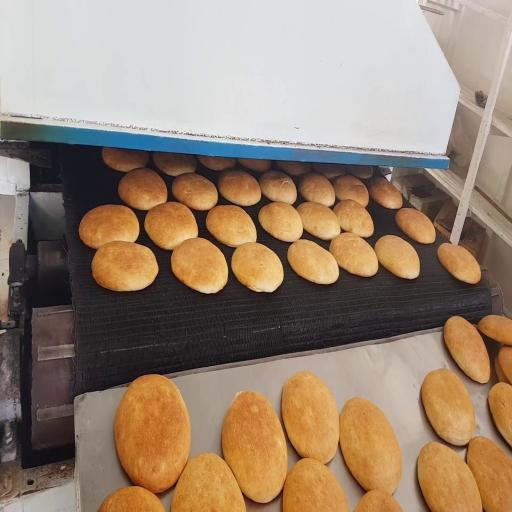bread: (115, 375, 190, 493), (222, 392, 287, 502), (340, 398, 402, 493), (282, 371, 339, 464), (418, 442, 482, 511), (171, 453, 246, 511), (421, 369, 475, 445), (283, 459, 349, 511), (92, 241, 158, 291), (467, 437, 511, 511), (171, 238, 227, 293), (444, 317, 490, 383), (79, 205, 139, 249), (231, 243, 283, 292), (145, 202, 198, 250), (288, 240, 339, 284), (330, 233, 378, 277), (206, 205, 256, 247), (118, 168, 167, 210), (375, 235, 420, 279), (438, 243, 481, 284), (259, 202, 302, 242), (98, 486, 165, 511), (172, 174, 218, 210), (297, 202, 340, 240), (218, 170, 261, 206), (488, 383, 511, 446), (334, 200, 373, 237), (395, 208, 435, 244), (259, 170, 297, 204), (299, 173, 335, 206), (102, 148, 149, 172), (334, 175, 369, 207), (369, 177, 402, 209), (153, 152, 196, 176), (354, 490, 403, 511), (479, 315, 511, 345), (198, 156, 235, 171), (312, 163, 345, 179), (276, 161, 310, 175), (498, 346, 511, 382), (238, 159, 271, 172), (495, 355, 510, 383), (347, 165, 373, 179)
